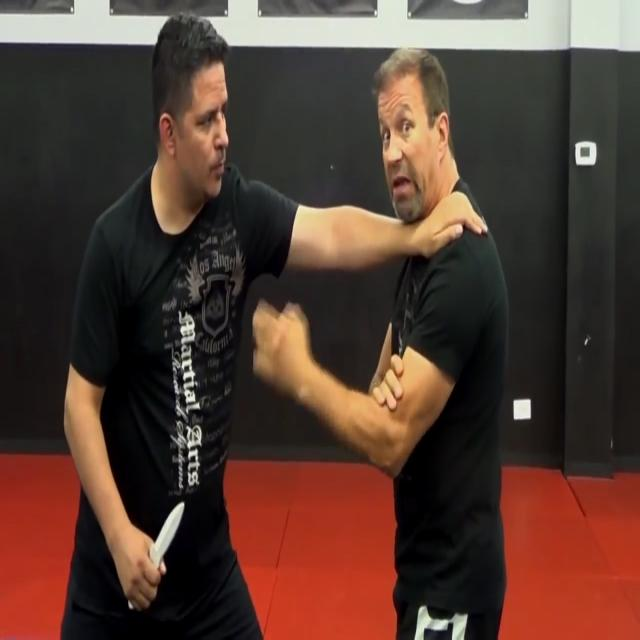knife: (126, 502, 188, 613)
